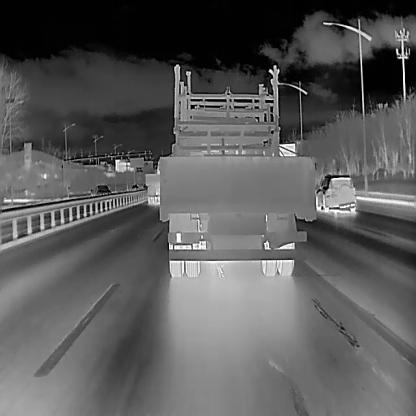car: (159, 103, 315, 277), (313, 173, 357, 212), (145, 158, 162, 205), (89, 184, 113, 201), (130, 181, 138, 191)
